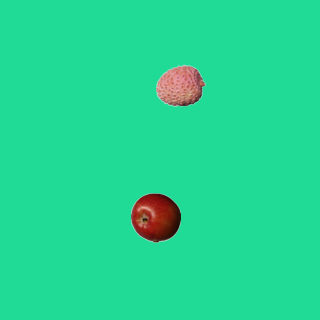Apple Braeburn: (130, 192, 180, 242)
Lychee: (155, 60, 205, 110)
